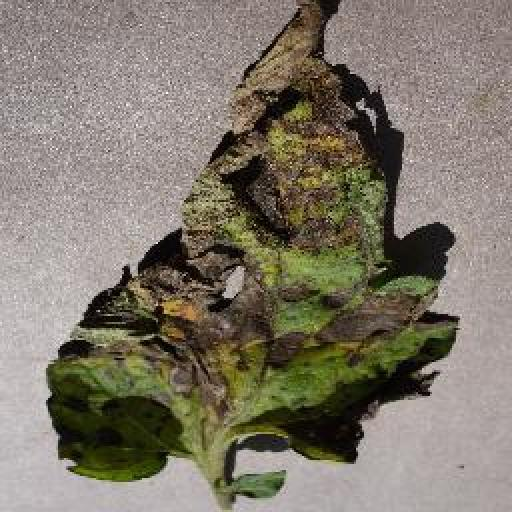Early Blight: (48, 0, 460, 480)
